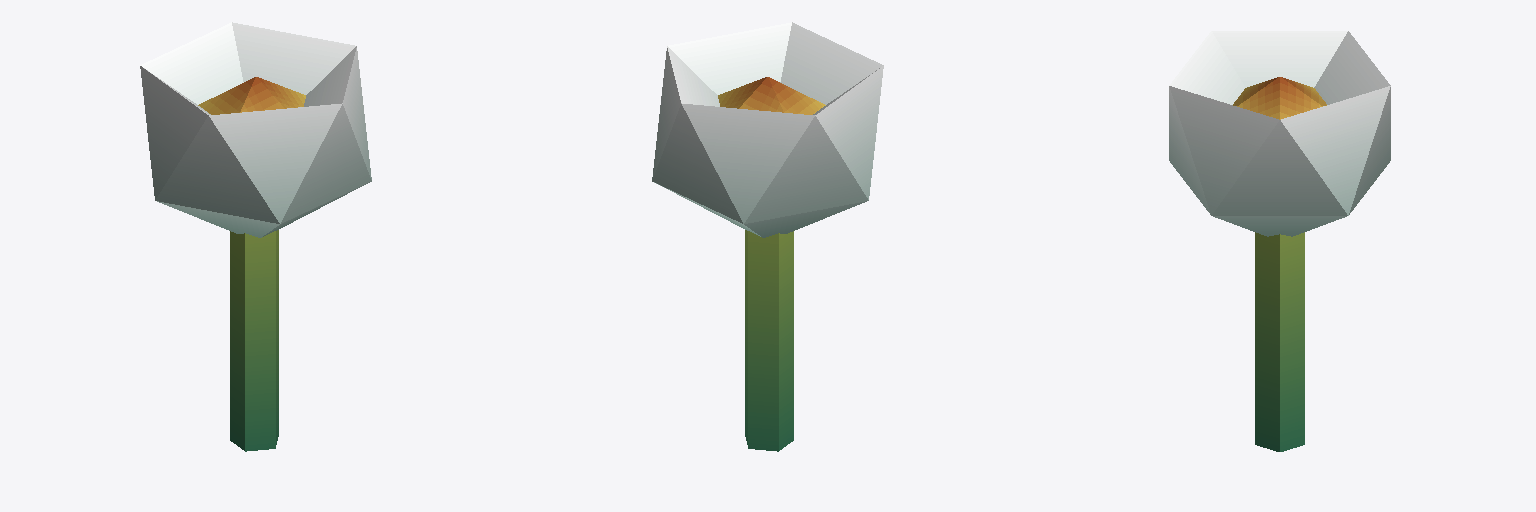
The picture shows the model from 3 angles: view 1: azimuth 30°, elevation 25°; view 2: azimuth 150°, elevation 25°; view 3: azimuth 270°, elevation 25°; orthographic projection.
Parts seen in each view (by area): view 1: Icosphere.009, Cylinder.008; view 2: Icosphere.009, Cylinder.008; view 3: Icosphere.009, Cylinder.008.
Part boxes in pixels (bbox=[...]): Icosphere.009: bbox=[140, 22, 371, 237]; Cylinder.008: bbox=[230, 230, 278, 451]; Icosphere.009: bbox=[652, 22, 883, 237]; Cylinder.008: bbox=[745, 230, 793, 451]; Icosphere.009: bbox=[1169, 31, 1390, 236]; Cylinder.008: bbox=[1255, 232, 1304, 451].
Size of the model in its own units: 0.443 by 0.7778 by 0.4213.
1 materials, 1 textured.